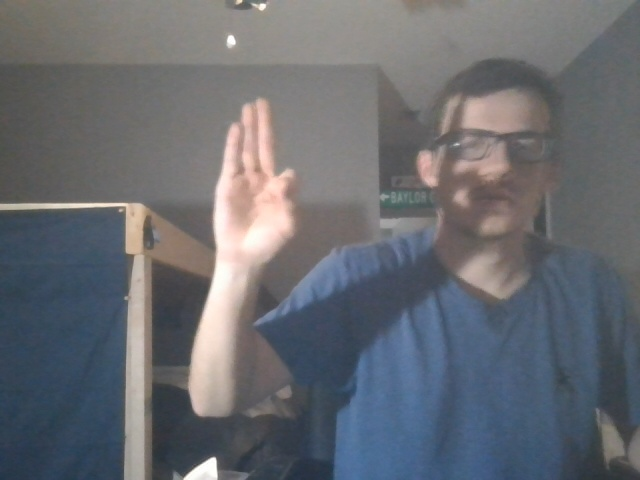F: (203, 92, 305, 270)
